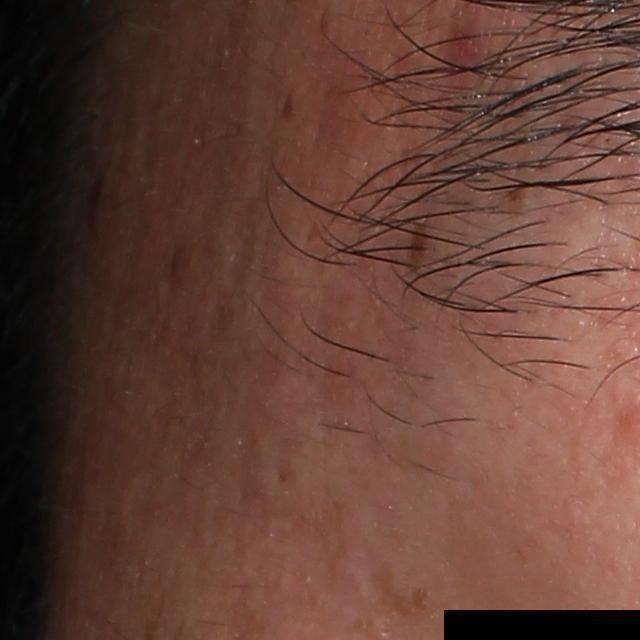nevus: (408, 218, 429, 272), (280, 90, 295, 122)
